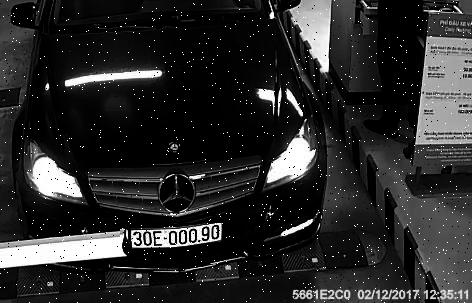License-plate: (122, 225, 248, 257)
